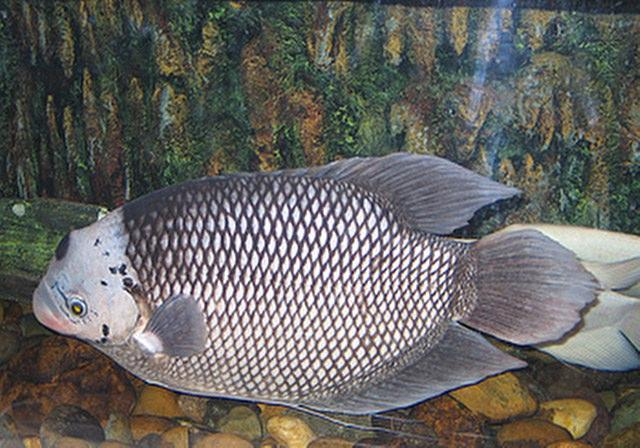Mulut: (22, 250, 92, 354)
Sirip Anal: (279, 317, 545, 419)
Sirip Dada: (122, 282, 225, 374)
Sirip Ekor: (450, 210, 608, 364)
Sirip Punggung: (292, 137, 536, 243)
